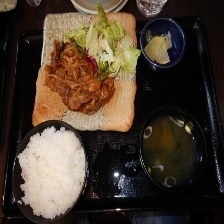rice: (13, 123, 89, 222)
